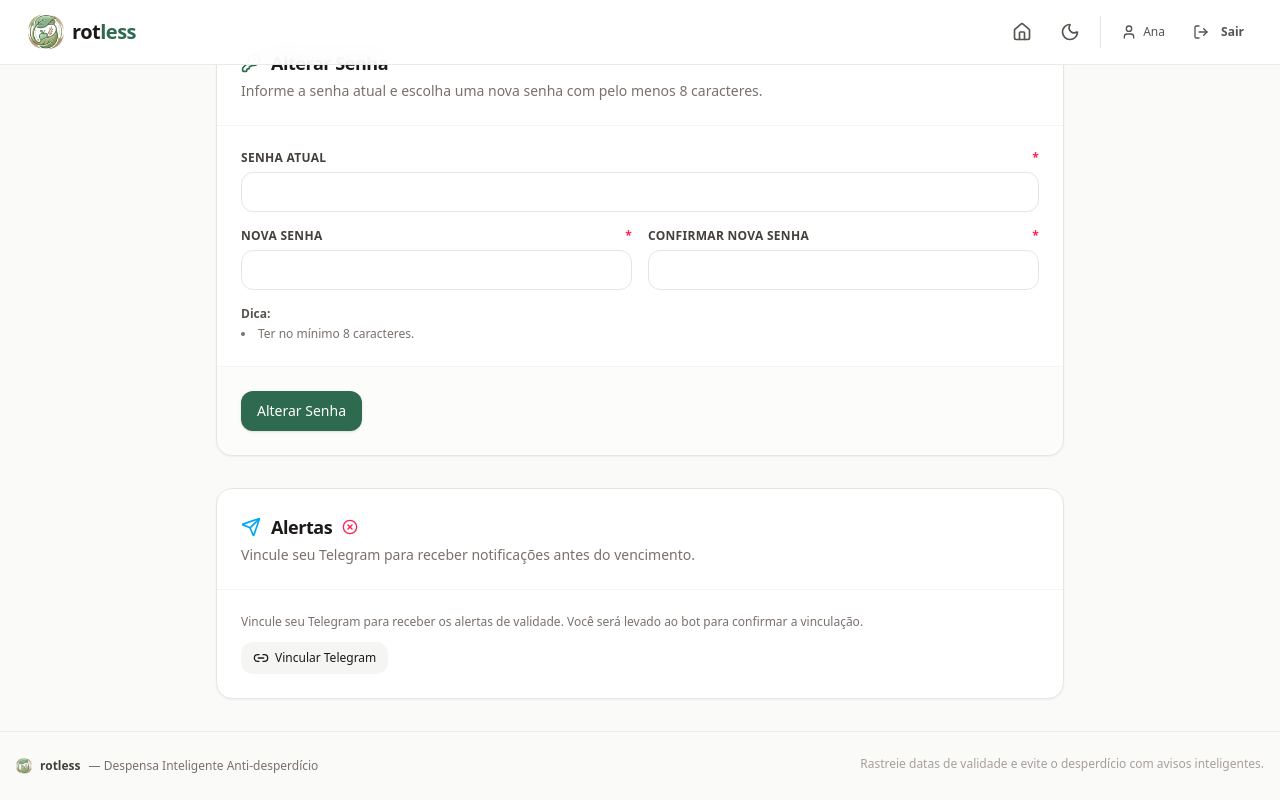
Test: Settings — Telegram linking › confirms the linking automatically once the webhook links the account
The image size is (1280, 800).
(page scrolled)
What coordinates should you click on to do the following:
click the button "Vincular Telegram"
I would click on:
 (315, 658)
Its box is [241,642,388,674].
Wait 3000 ms
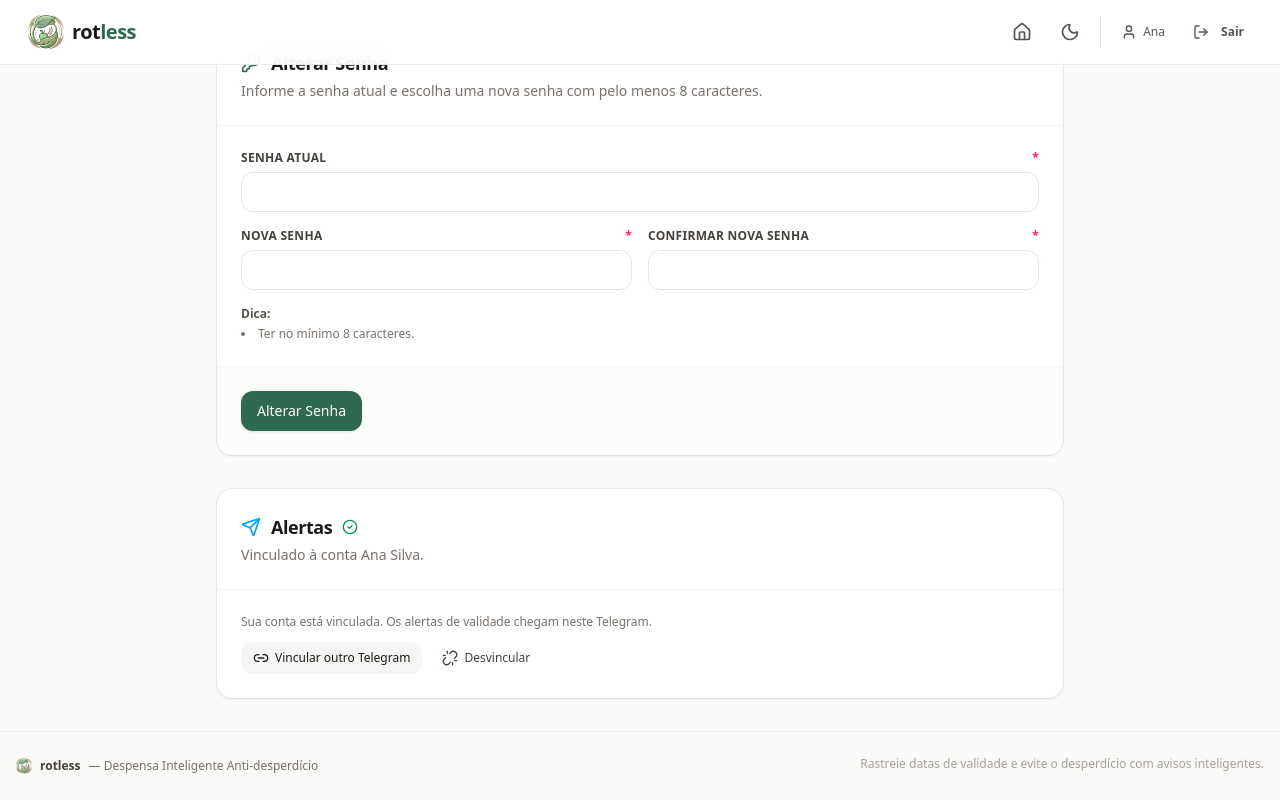
Result: the text "Vinculado à conta Ana Silva." is shown at [241,545,424,564]
